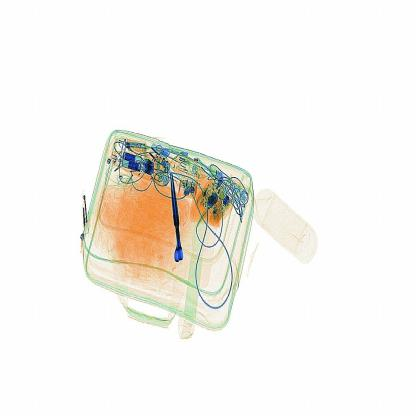gun: (156, 156, 192, 280)
